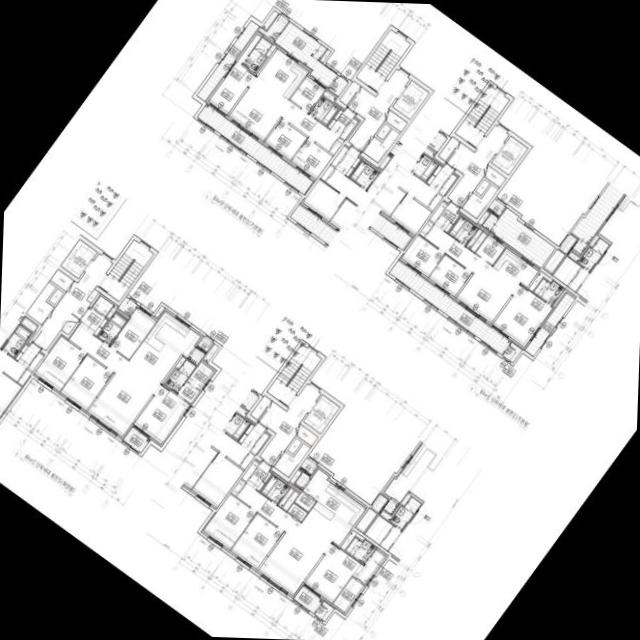background: (0, 0, 640, 640)
space_balconi: (389, 260, 510, 355), (196, 104, 312, 194), (196, 21, 258, 101), (274, 21, 337, 87), (489, 208, 554, 267), (524, 293, 575, 357), (293, 586, 322, 613), (123, 428, 149, 453)
space_bedroom: (208, 34, 260, 114), (492, 285, 552, 347), (133, 385, 189, 444), (304, 544, 360, 603), (60, 355, 112, 410), (34, 336, 86, 391), (203, 494, 255, 549), (230, 514, 282, 569), (110, 308, 156, 359), (428, 255, 470, 297), (401, 235, 443, 277), (264, 119, 306, 160), (290, 138, 332, 179), (289, 76, 324, 113)
space_dressroom: (332, 550, 385, 612), (177, 362, 213, 403)
space_elevator: (491, 136, 527, 175), (392, 80, 428, 119), (60, 240, 96, 278), (303, 395, 339, 433)
space_elevator_hall: (31, 254, 112, 350), (257, 384, 320, 466), (445, 125, 508, 207), (347, 69, 409, 151)
space_front: (327, 108, 357, 140), (79, 308, 108, 337), (434, 202, 460, 233), (246, 461, 272, 491)
space_kitchen: (129, 311, 199, 383), (302, 469, 365, 526), (256, 49, 308, 100), (492, 248, 537, 287)
space_living_room: (236, 484, 352, 596), (68, 326, 159, 436), (424, 225, 517, 323), (228, 77, 344, 155)
space_other: (461, 185, 497, 219), (26, 282, 55, 324), (363, 129, 398, 163), (273, 444, 309, 477), (475, 235, 504, 265), (162, 357, 185, 384), (255, 45, 275, 74), (484, 165, 506, 187), (50, 270, 73, 291), (438, 137, 458, 161), (528, 271, 552, 291), (339, 81, 359, 105), (340, 530, 364, 550), (296, 424, 317, 446), (250, 396, 270, 419), (386, 110, 406, 131), (294, 492, 315, 512), (241, 460, 259, 482), (92, 296, 112, 315), (314, 601, 333, 621), (328, 76, 347, 96), (502, 343, 521, 362), (287, 503, 307, 521), (429, 202, 446, 223), (118, 297, 136, 316), (261, 10, 278, 30), (470, 232, 486, 252), (282, 491, 298, 511), (187, 348, 204, 365), (278, 488, 293, 507), (466, 229, 481, 248), (482, 213, 497, 231), (294, 472, 309, 490), (204, 345, 218, 362), (475, 179, 489, 195), (376, 124, 390, 140), (287, 438, 301, 454), (48, 289, 62, 304), (231, 480, 244, 496), (419, 221, 432, 237), (61, 321, 76, 334), (86, 289, 98, 303), (477, 211, 489, 225), (289, 470, 301, 484), (322, 91, 335, 102), (320, 50, 330, 62), (106, 305, 115, 318), (154, 306, 164, 317)
space_outdoor_room: (258, 14, 288, 41), (488, 199, 505, 215), (300, 458, 317, 474), (197, 336, 212, 352)
space_staircase: (454, 85, 509, 147), (356, 30, 410, 92), (266, 344, 320, 406), (99, 240, 153, 301)
space_toilet: (242, 37, 271, 73), (165, 360, 195, 393), (97, 312, 127, 345), (309, 96, 338, 126), (448, 216, 477, 245), (260, 475, 289, 504), (345, 537, 375, 564), (533, 278, 563, 305)
